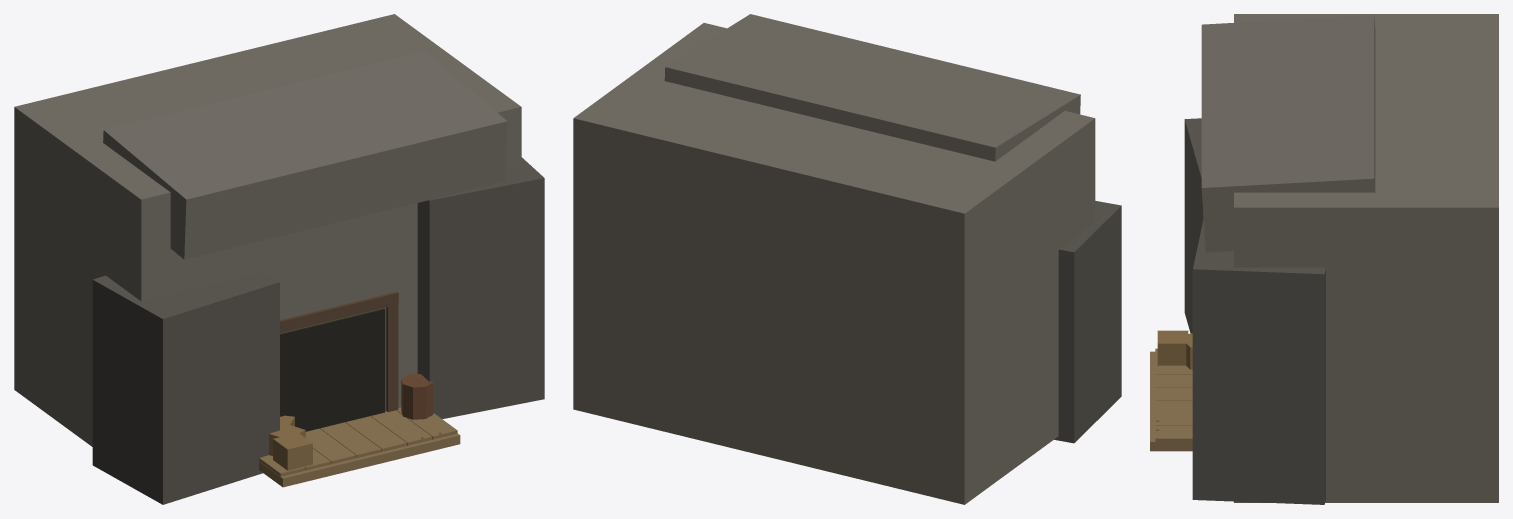
File: S_CliffCave.glb
3 renders of one model, left to right at view 1: azimuth 30°, elevation 25°; view 2: azimuth 150°, elevation 25°; view 3: azimuth 270°, elevation 25°, orthographic. The views are drawn at different scales.
Parts seen in each view (by area): view 1: S_CliffCave; view 2: S_CliffCave; view 3: S_CliffCave.
Boxes of the visible parts, box(x1,y1,x2,y2) form: S_CliffCave: box(14, 14, 544, 504); S_CliffCave: box(573, 14, 1121, 504); S_CliffCave: box(1150, 14, 1498, 504).
Bounding box in the file's own units: 9.64 × 6.8 × 6.85.
